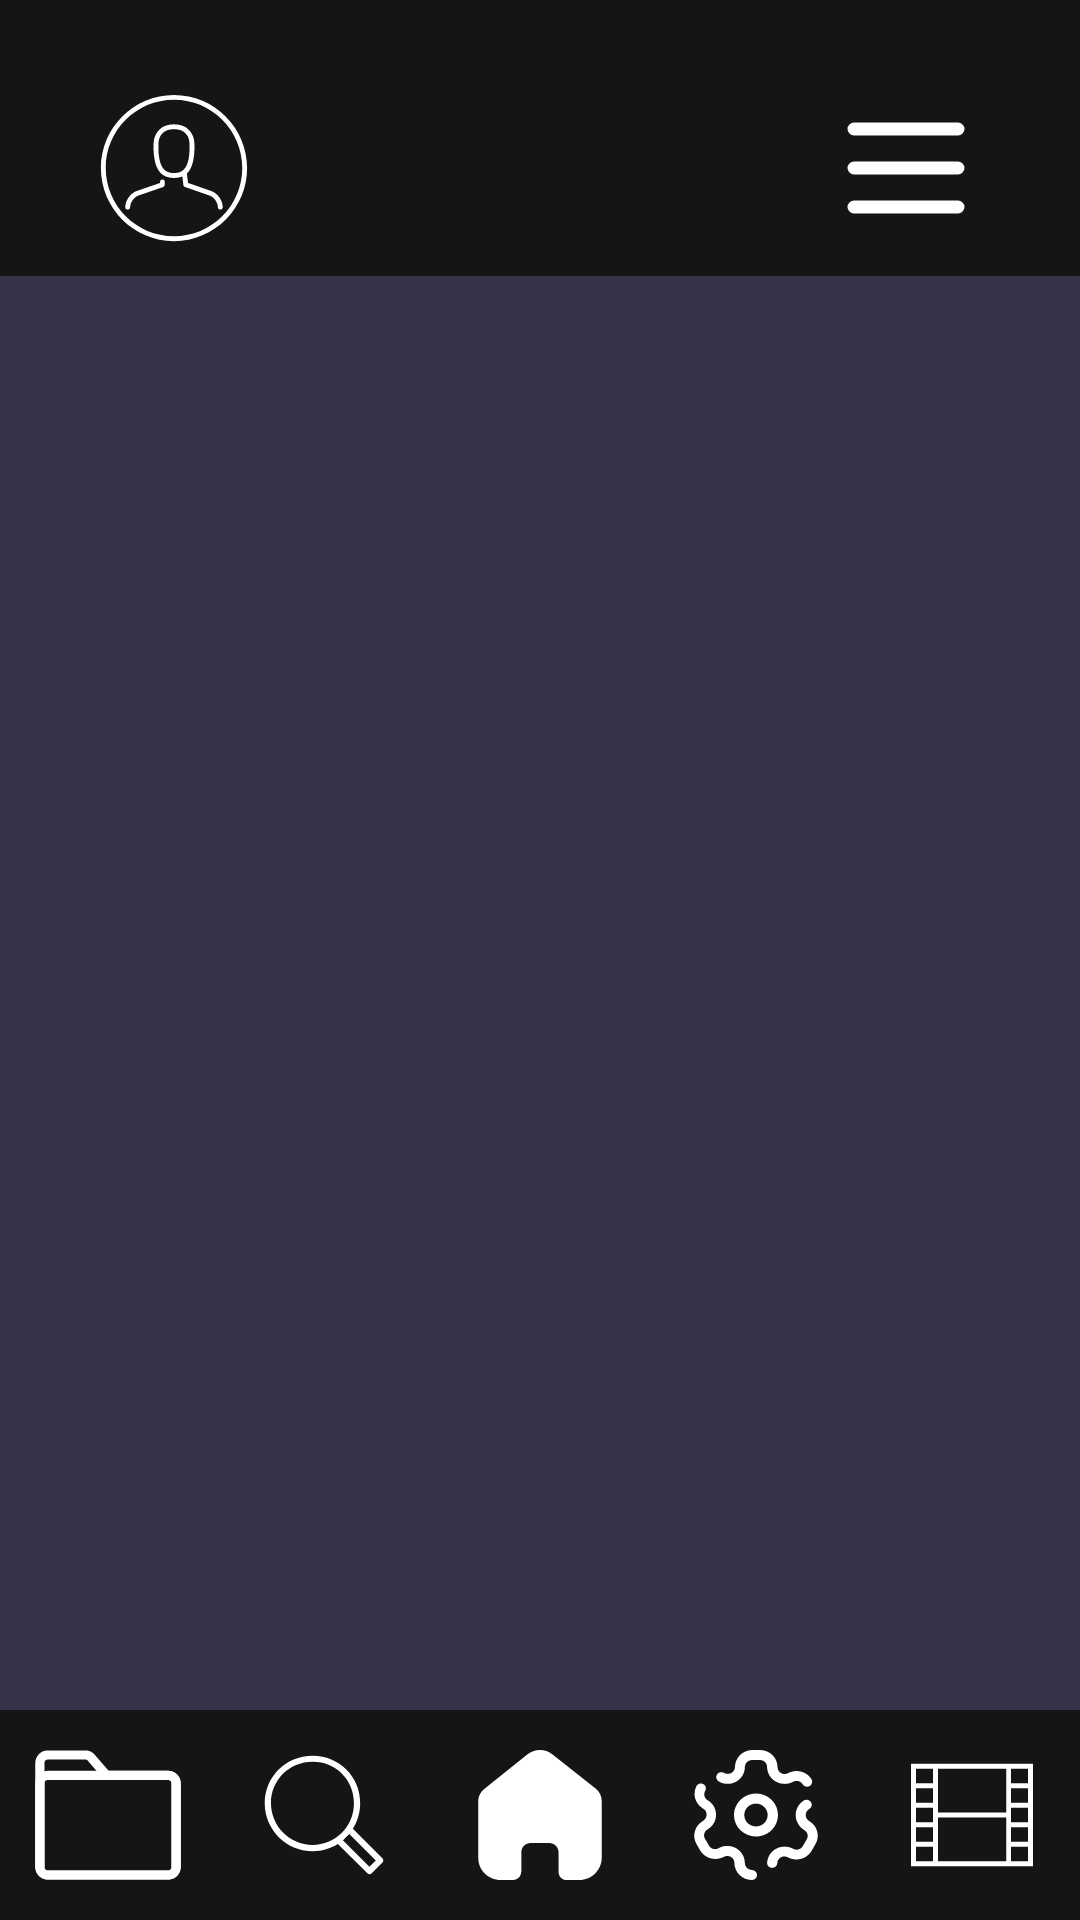

Where to tap for icons on this 1080 x 1920 app screen, as [x,y]:
film: [972,1815]
home: [540,1815]
man: [173,168]
menu: [906,168]
search: [324,1815]
setting: [756,1815]
